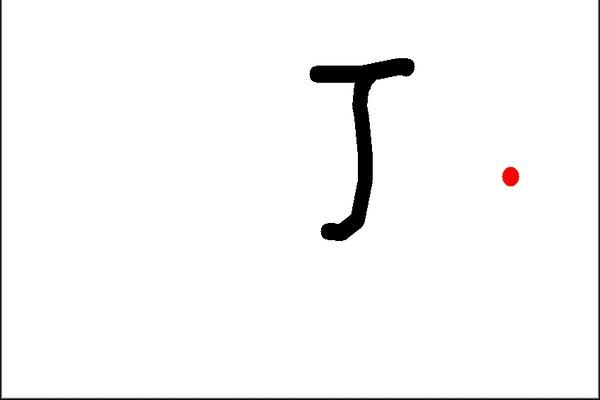J: (300, 48, 420, 246)
